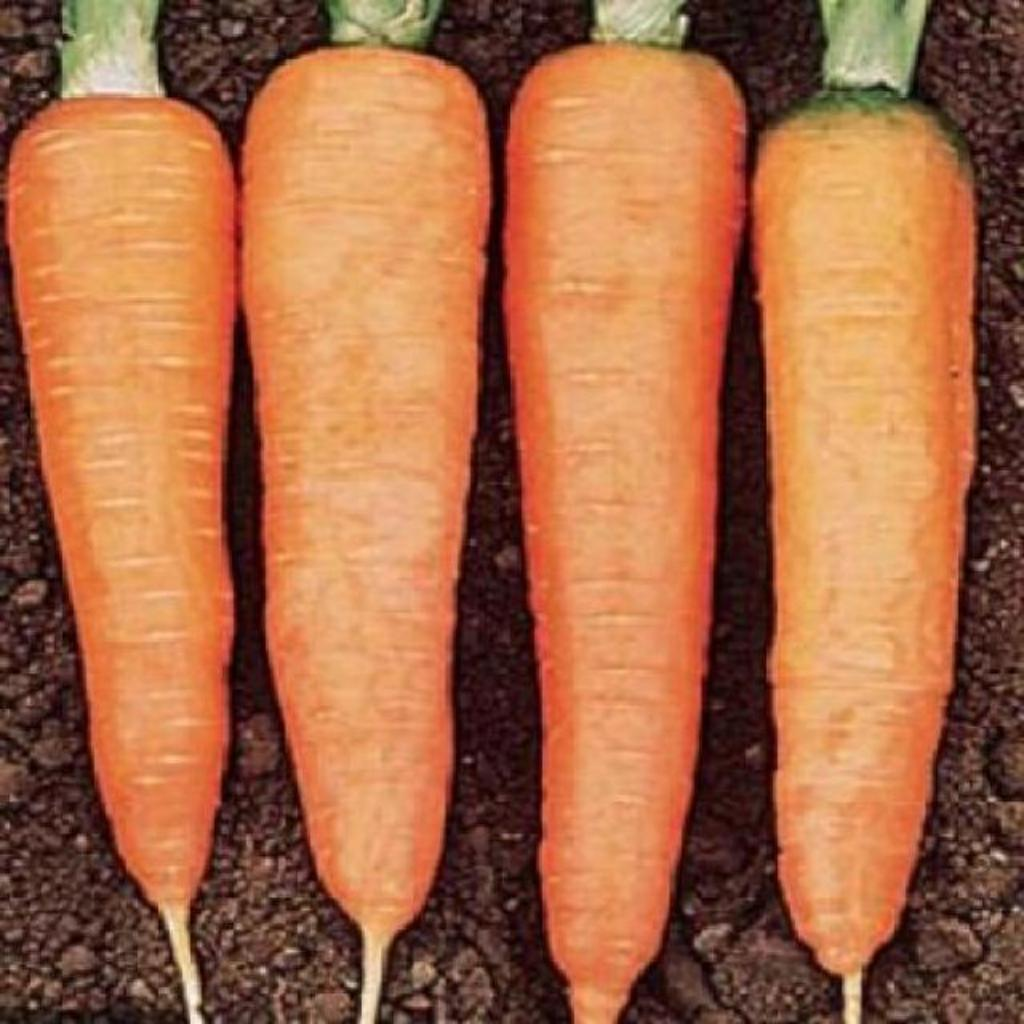carrot: (242, 0, 490, 1023), (506, 0, 744, 1023), (8, 0, 236, 1024), (754, 0, 974, 1023)
